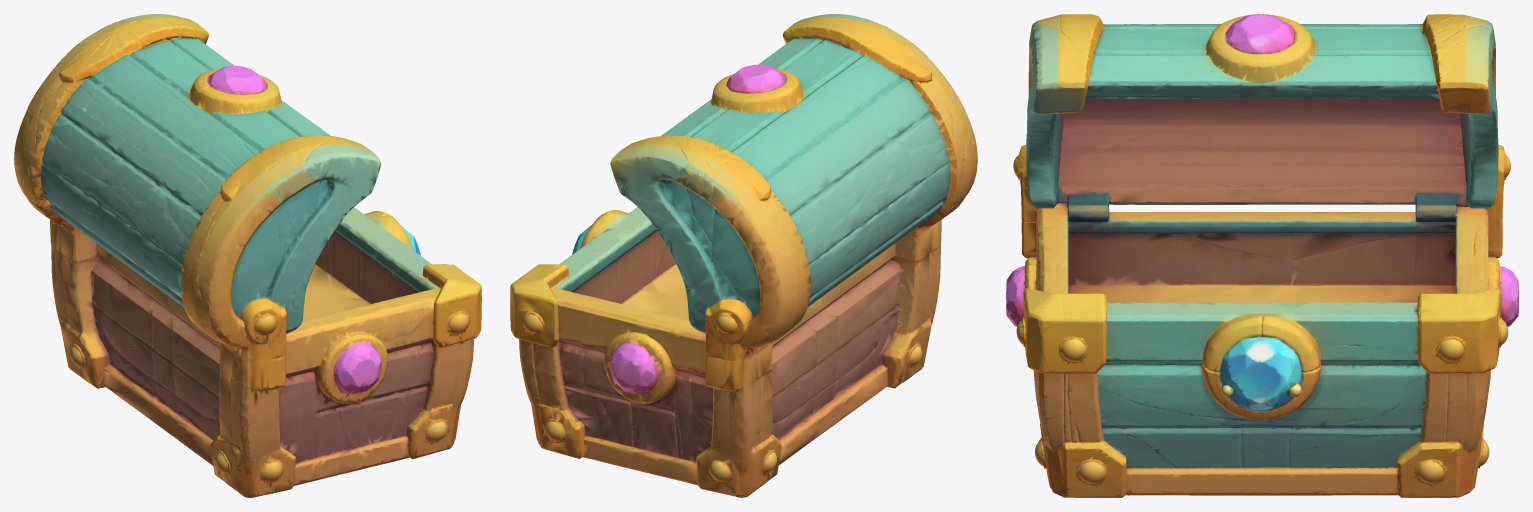
Rendered from prop_chest.glb.
3 views of the same model, side by side, from view 1: azimuth 30°, elevation 25°; view 2: azimuth 150°, elevation 25°; view 3: azimuth 270°, elevation 25° (orthographic). The views are drawn at different scales.
Visible parts, largest first — view 1: tripo_node_0566666a-f5d8-442f-a9d7-2077842df3ec; view 2: tripo_node_0566666a-f5d8-442f-a9d7-2077842df3ec; view 3: tripo_node_0566666a-f5d8-442f-a9d7-2077842df3ec.
Boxes of the visible parts, x1,y1,x2,y2 form: tripo_node_0566666a-f5d8-442f-a9d7-2077842df3ec: [14, 14, 481, 497]; tripo_node_0566666a-f5d8-442f-a9d7-2077842df3ec: [510, 14, 977, 497]; tripo_node_0566666a-f5d8-442f-a9d7-2077842df3ec: [1006, 14, 1518, 497].
Size of the model in its own units: 0.7742 by 0.8362 by 0.9685.
1 material, 1 textured.
